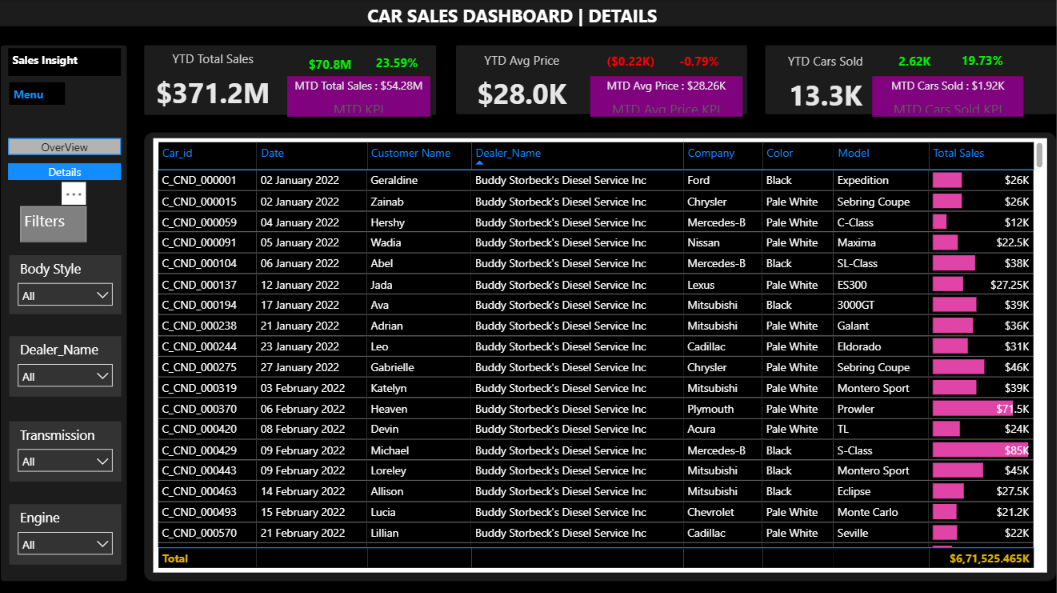

Layout of this report page (visuals, bound fields, positions):
{"tool":"powerbi","page":{"name":"Details","canvas":[1280,720],"ordinal":1},"visuals":[{"type":"card","title":"YTD Total Sales","fields":{"Values":["car_data.YTD Total Sales"]},"box":[167.4,61.8,180.3,83.7],"z":0},{"type":"card","fields":{"Values":["car_data.Sales Difference"]},"box":[357.8,63.5,82.2,33.2],"z":1000},{"type":"card","fields":{"Values":["car_data.YOY Sales Growth"]},"box":[439.2,63,81.9,33.1],"z":2000},{"type":"card","fields":{"Values":["car_data.MTD KPI"]},"box":[347.5,92.5,172.5,48.8],"z":3000},{"type":"card","title":"YTD Avg Price","fields":{"Values":["car_data.YTD Avg Price"]},"box":[540.8,63.1,180.3,82.4],"z":4000},{"type":"card","fields":{"Values":["car_data.Avg Price Diff"]},"box":[721.2,60,81.2,32.5],"z":5000},{"type":"card","fields":{"Values":["car_data.YoY Avg Price Growth"]},"box":[803.8,60,82.5,33.8],"z":6000},{"type":"card","fields":{"Values":["car_data.MTD Avg Price KPI"]},"box":[712.5,92.5,183.8,48.8],"z":7000},{"type":"card","title":"YTD Cars Sold","fields":{"Values":["car_data.YTD Cars Sold"]},"box":[906.7,64.5,179.4,83.4],"z":8000},{"type":"card","fields":{"Values":["car_data.Cars Sold Diff"]},"box":[1063.8,60,81.2,33.8],"z":9000},{"type":"card","fields":{"Values":["car_data.YoY Car Sold Growth"]},"box":[1145,58.8,82.5,33.8],"z":10000},{"type":"card","fields":{"Values":["car_data.MTD Cars Sold KPI"]},"box":[1053.8,92.5,182.5,48.8],"z":11000},{"type":"textbox","box":[439.2,0,467.5,61.4],"z":12000},{"type":"slicer","fields":{"Values":["car_data.Body Style"]},"box":[12.5,308.8,135,71.2],"z":13000},{"type":"slicer","fields":{"Values":["car_data.Dealer_Name"]},"box":[12.5,406.2,135,72.5],"z":14000},{"type":"slicer","fields":{"Values":["car_data.Transmission"]},"box":[12.5,508.8,135,72.5],"z":15000},{"type":"slicer","fields":{"Values":["car_data.Engine"]},"box":[12.5,608.8,135,72.5],"z":16000},{"type":"textbox","box":[25.2,250.3,80.3,42.5],"z":17000},{"type":"tableEx","fields":{"Values":["car_data.Car_id","car_data.Date","car_data.Customer Name","car_data.Dealer_Name","car_data.Company","car_data.Color","car_data.Model","Sum(car_data.Price ($))"]},"box":[186.2,167.5,1078.8,523.8],"z":18000},{"type":"pageNavigator","box":[11.2,167.5,136.2,50],"z":19000},{"type":"textbox","box":[11.2,58.8,136.2,33.8],"z":20000},{"type":"textbox","box":[12.5,100,67.5,27.5],"z":21000}]}

Visuals, with their boxes on the page's 1280x720 design canvas (x1, y1, x2, y2). These are canvas units, not pixel positions in the 1057x593 screenshot, which may show the page scaled, cropped or inside an application window:
"YTD Total Sales" card: bbox=[167, 62, 348, 146]
card - car_data.Sales Difference: bbox=[358, 64, 440, 97]
card - car_data.YOY Sales Growth: bbox=[439, 63, 521, 96]
card - car_data.MTD KPI: bbox=[348, 92, 520, 141]
"YTD Avg Price" card: bbox=[541, 63, 721, 146]
card - car_data.Avg Price Diff: bbox=[721, 60, 802, 92]
card - car_data.YoY Avg Price Growth: bbox=[804, 60, 886, 94]
card - car_data.MTD Avg Price KPI: bbox=[712, 92, 896, 141]
"YTD Cars Sold" card: bbox=[907, 64, 1086, 148]
card - car_data.Cars Sold Diff: bbox=[1064, 60, 1145, 94]
card - car_data.YoY Car Sold Growth: bbox=[1145, 59, 1228, 93]
card - car_data.MTD Cars Sold KPI: bbox=[1054, 92, 1236, 141]
textbox: bbox=[439, 0, 907, 61]
slicer - car_data.Body Style: bbox=[12, 309, 148, 380]
slicer - car_data.Dealer_Name: bbox=[12, 406, 148, 479]
slicer - car_data.Transmission: bbox=[12, 509, 148, 581]
slicer - car_data.Engine: bbox=[12, 609, 148, 681]
textbox: bbox=[25, 250, 106, 293]
tableEx - car_data.Car_id x car_data.Date: bbox=[186, 168, 1265, 691]
pageNavigator: bbox=[11, 168, 147, 218]
textbox: bbox=[11, 59, 147, 93]
textbox: bbox=[12, 100, 80, 128]
